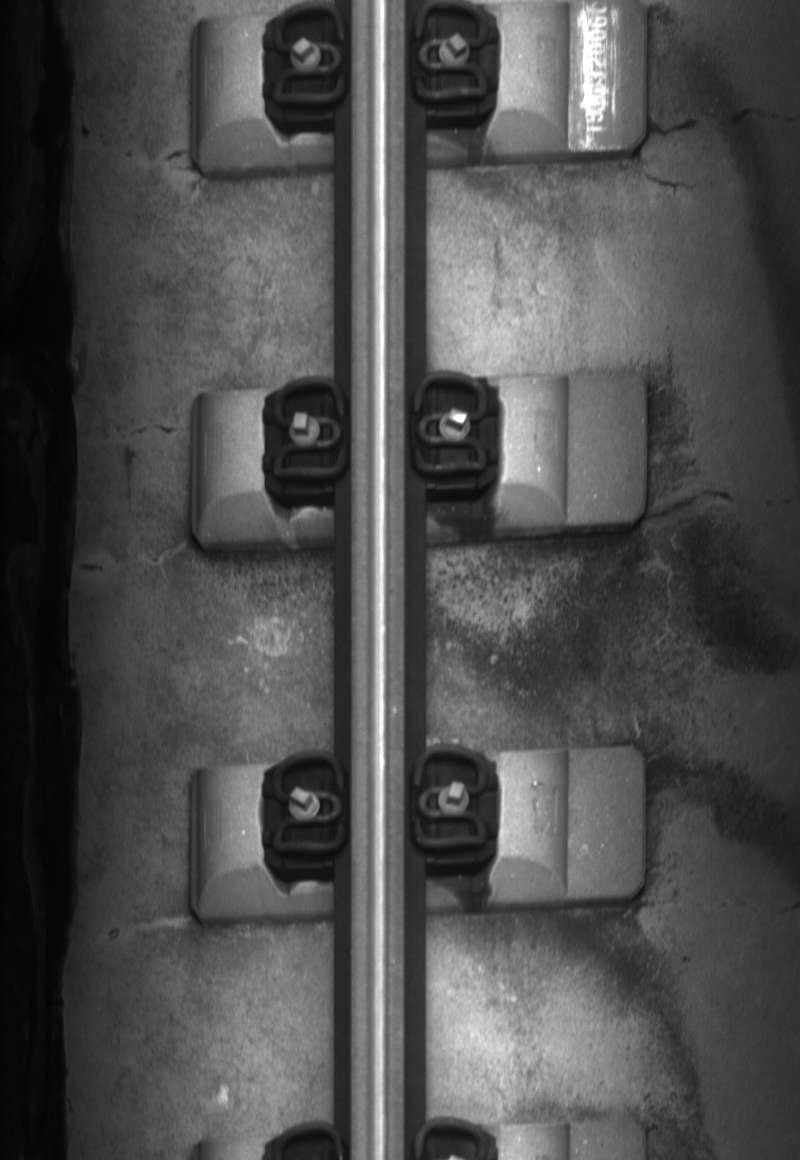l_faster: (266, 747, 350, 859), (268, 371, 350, 485), (267, 0, 350, 109)
r_faster: (407, 739, 494, 855), (408, 0, 492, 108), (410, 368, 490, 475)
